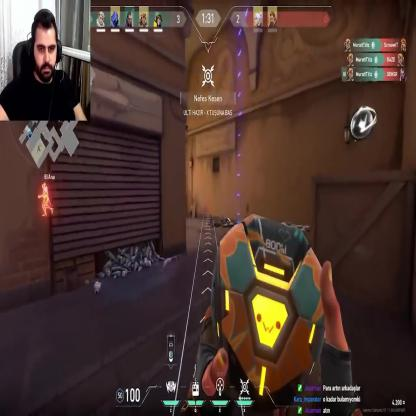enemy: (38, 182, 52, 216)
enemy_head: (42, 183, 46, 189)
